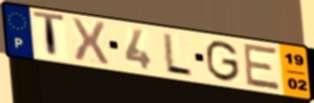4: (124, 28, 155, 72)
E: (243, 42, 283, 92)
G: (205, 39, 242, 84)
L: (161, 31, 195, 79)
T: (32, 10, 67, 62)
X: (69, 16, 112, 67)
